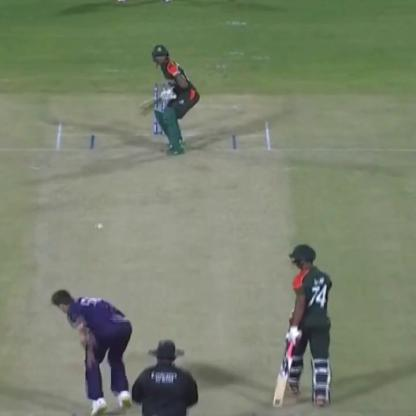ball: (89, 218, 107, 234)
bat: (266, 347, 297, 410), (134, 87, 171, 123)
pitch: (4, 100, 317, 416)
